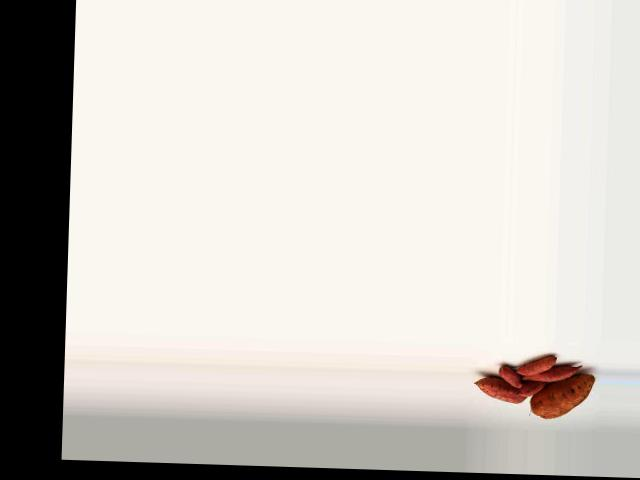sweet_potato: (472, 376, 525, 403)
